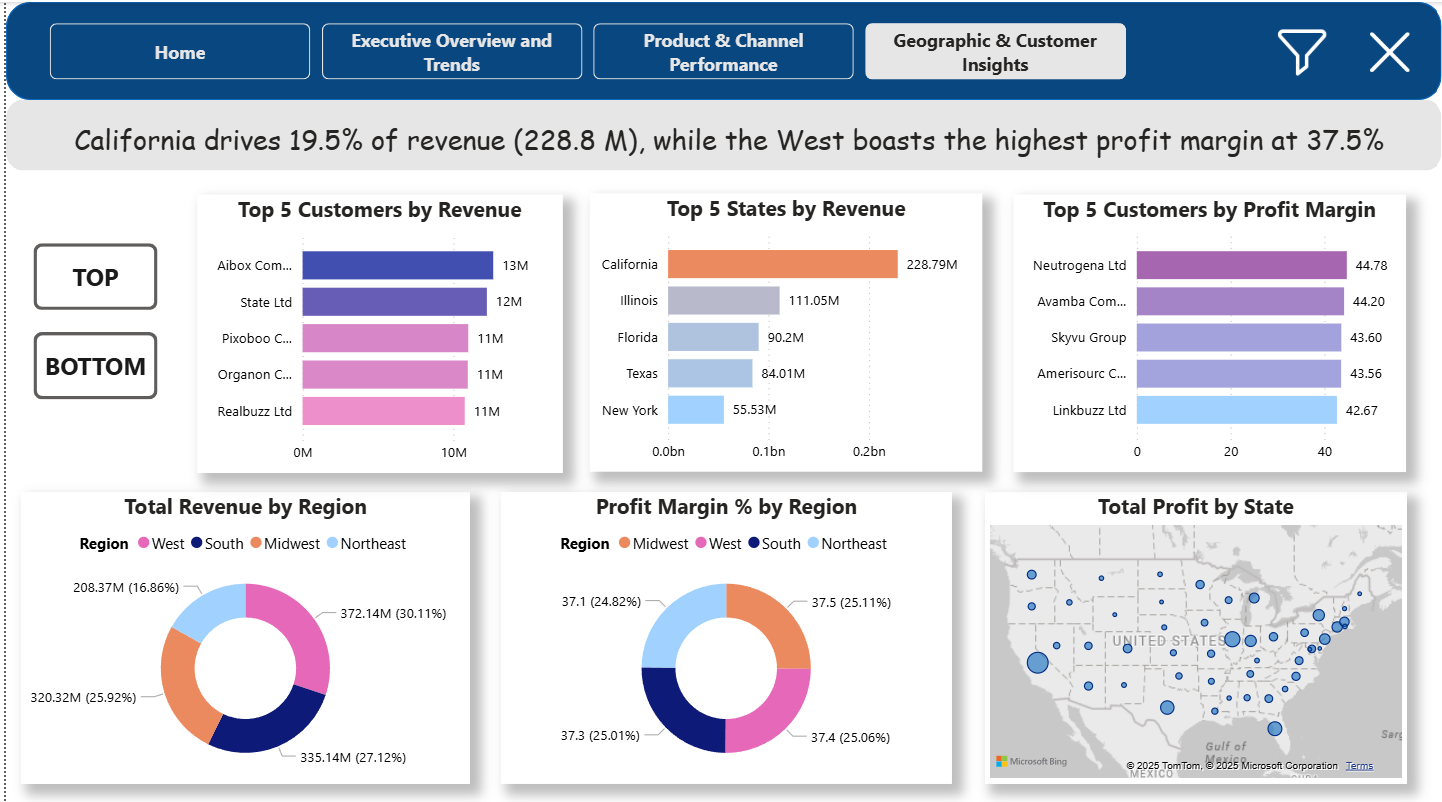

What the dashboard file says about the page in this screenshot:
{"tool":"powerbi","page":{"name":"Geographic & Customer Insights","canvas":[1280,720],"ordinal":3},"visuals":[{"type":"barChart","title":"Top 5 Customers by Revenue","fields":{"Y":["Sum(Sales_data(EDA Exported).revenue)"],"Category":["Sales_data(EDA Exported).customer_name"]},"box":[170.2,171.5,325.2,248.4],"z":0},{"type":"barChart","title":"Top 5 States by Revenue","fields":{"Y":["Sum(Sales_data(EDA Exported).revenue)"],"Category":["Sales_data(EDA Exported).state_name"]},"box":[520.1,170.2,349.9,248.4],"z":1000},{"type":"donutChart","title":"Total Revenue by Region","fields":{"Y":["Sum(Sales_data(EDA Exported).revenue)"],"Category":["Sales_data(EDA Exported).us_region"]},"box":[13.4,435.8,400,259.7],"z":2000},{"type":"donutChart","title":"Profit Margin % by Region","fields":{"Y":["Custom Measures.Profit Margin (%)"],"Category":["Sales_data(EDA Exported).us_region"]},"box":[440.3,435.8,401.5,259.7],"z":3000},{"type":"map","title":"Total Profit by State","fields":{"Category":["Sales_data(EDA Exported).state"],"Size":["Sum(Sales_data(EDA Exported).profit)"]},"box":[871.6,435.8,376.1,259.7],"z":4000},{"type":"shape","box":[0,87.3,1279.4,63.5],"z":5000},{"type":"textbox","box":[39.7,100,1207.9,68.3],"z":6000},{"type":"shape","box":[0,0,1279.4,87.3],"z":7000},{"type":"pageNavigator","box":[39.3,18.4,960.7,50.3],"z":8000},{"type":"barChart","title":"Top 5 Customers by Profit Margin ","fields":{"Category":["Sales_data(EDA Exported).customer_name"],"Y":["Custom Measures.Profit Margin (%)"]},"box":[897.8,170.9,349.3,247.2],"z":9000},{"type":"actionButton","title":"TOP","box":[24.8,214.7,110.5,59.6],"z":13000},{"type":"actionButton","box":[24.8,294.2,110.5,60],"z":14000},{"type":"image","box":[1119.6,13.7,69.5,60.8],"z":15000},{"type":"image","box":[1206.5,22.3,50.9,44.7],"z":16000}]}

Visuals, with their boxes in screenshot pixels (x1, y1, x2, y2), scaled from the page's 1280x720 canvas onto the 1442x802 screenshot:
"Top 5 Customers by Revenue" barChart: region(192, 191, 558, 468)
"Top 5 States by Revenue" barChart: region(586, 190, 980, 466)
"Total Revenue by Region" donutChart: region(15, 485, 466, 775)
"Profit Margin % by Region" donutChart: region(496, 485, 948, 775)
"Total Profit by State" map: region(982, 485, 1406, 775)
shape: region(0, 97, 1441, 168)
textbox: region(45, 111, 1405, 187)
shape: region(0, 0, 1441, 97)
pageNavigator: region(44, 20, 1127, 77)
"Top 5 Customers by Profit Margin " barChart: region(1011, 190, 1405, 466)
"TOP" actionButton: region(28, 239, 152, 306)
actionButton: region(28, 328, 152, 395)
image: region(1261, 15, 1340, 83)
image: region(1359, 25, 1417, 75)
